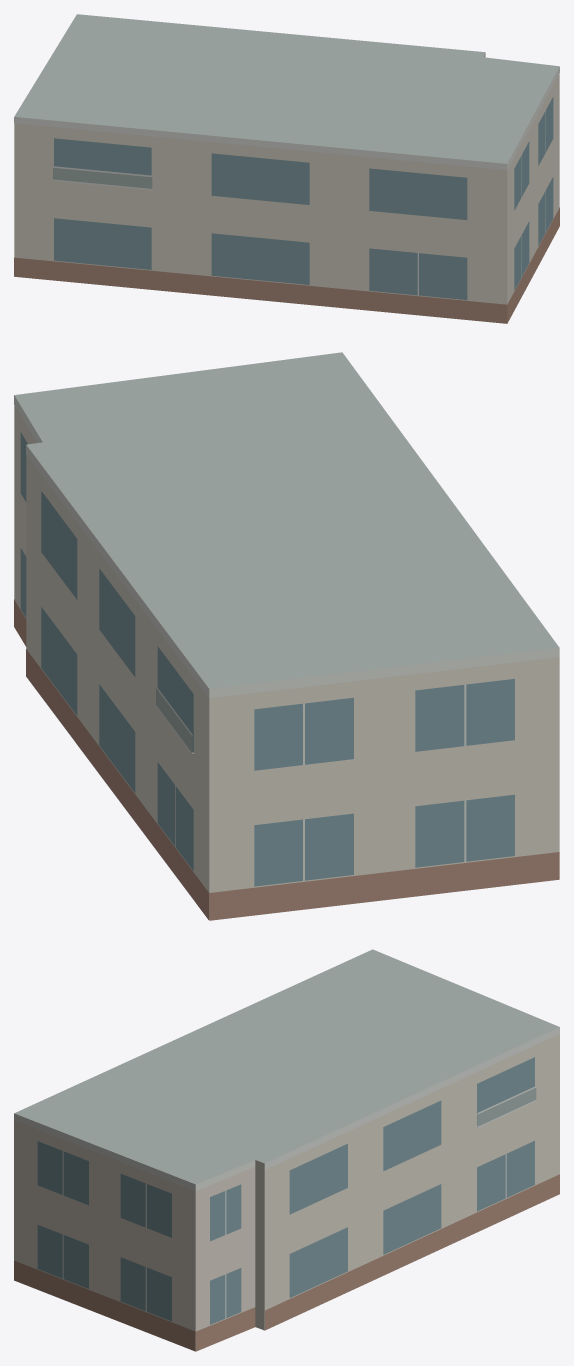
File: survey-upis-32891006.glb
The picture shows the model from 3 angles, top to bottom: view 1: azimuth 30°, elevation 25°; view 2: azimuth 150°, elevation 25°; view 3: azimuth 270°, elevation 25°; orthographic projection. The views are drawn at different scales.
Parts seen in each view (by area): view 1: survey-upis-32891006.tmp; view 2: survey-upis-32891006.tmp; view 3: survey-upis-32891006.tmp.
Boxes of the visible parts, <box> form: survey-upis-32891006.tmp: <box>14,14,559,323</box>; survey-upis-32891006.tmp: <box>14,352,559,920</box>; survey-upis-32891006.tmp: <box>14,949,559,1351</box>.
Size of the model in its own units: 18.42 by 6.1 by 18.06.
